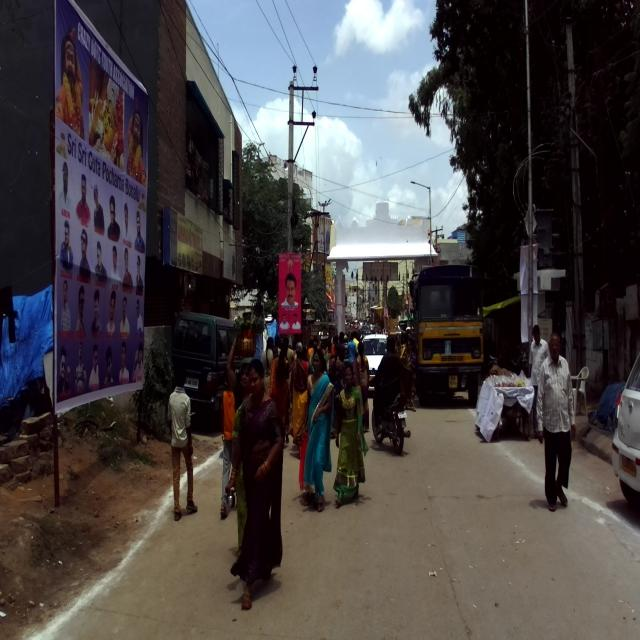car: (170, 305, 240, 427)
motorcycle: (370, 366, 410, 454)
truck: (411, 262, 485, 407)
